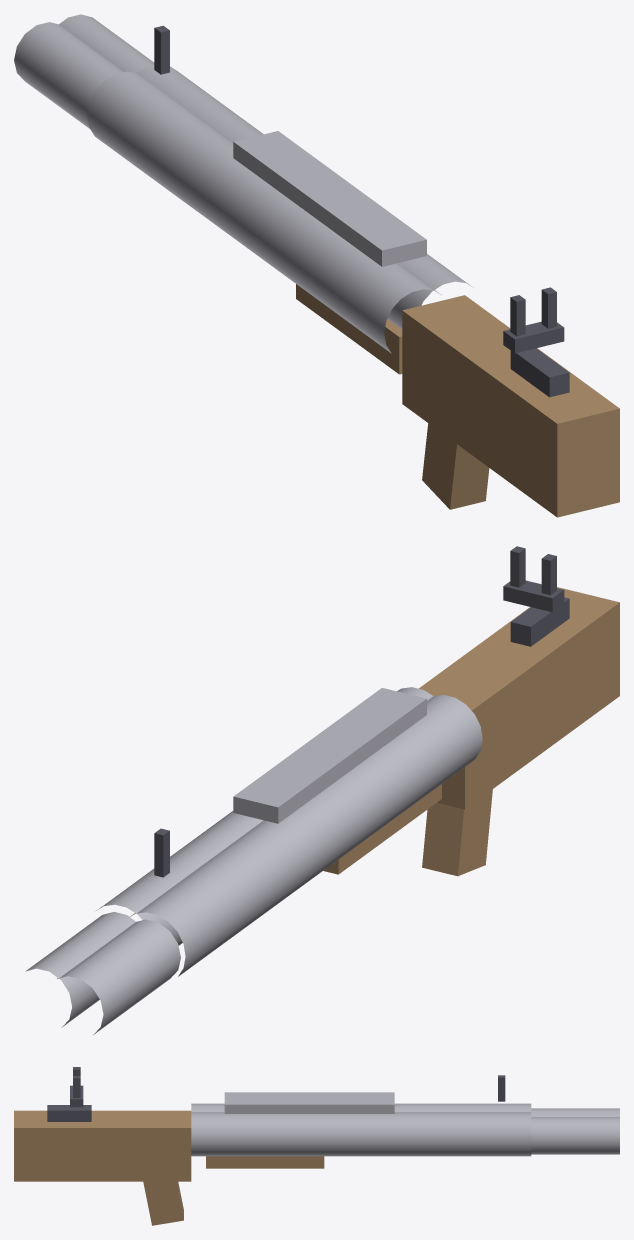
File: doze.glb
3 renders of one model, top to bottom at view 1: azimuth 30°, elevation 25°; view 2: azimuth 150°, elevation 25°; view 3: azimuth 270°, elevation 25°, orthographic. The views are drawn at different scales.
Parts seen in each view (by area): view 1: doze_metal, doze_body, doze_dark; view 2: doze_metal, doze_body, doze_dark; view 3: doze_metal, doze_body, doze_dark.
Boxes of the visible parts, left/top/right/bottom form: doze_metal: left=14, top=14, right=473, bottom=353; doze_body: left=296, top=284, right=619, bottom=517; doze_dark: left=154, top=25, right=569, bottom=397; doze_metal: left=25, top=687, right=482, bottom=1034; doze_body: left=323, top=587, right=619, bottom=876; doze_dark: left=154, top=546, right=569, bottom=877; doze_metal: left=191, top=1092, right=619, bottom=1156; doze_body: left=14, top=1110, right=324, bottom=1225; doze_dark: left=47, top=1067, right=505, bottom=1121.
Size of the model in its own units: 0.088 by 0.2212 by 0.82.
